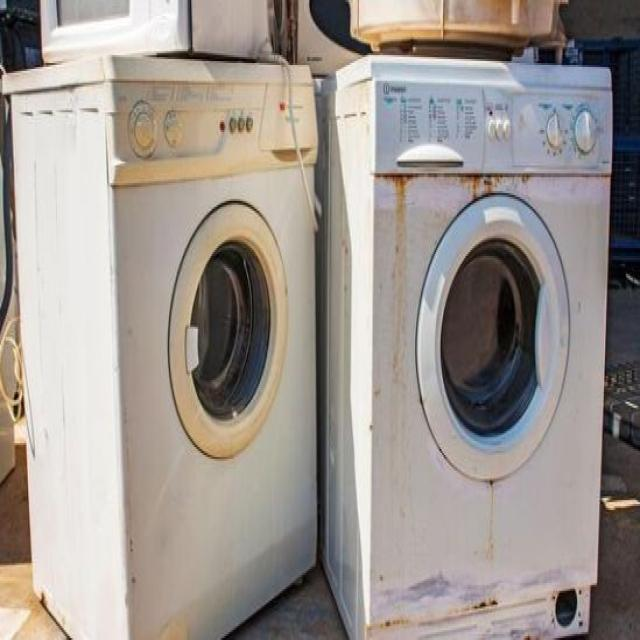electronic: (0, 47, 315, 640), (320, 51, 614, 638)
